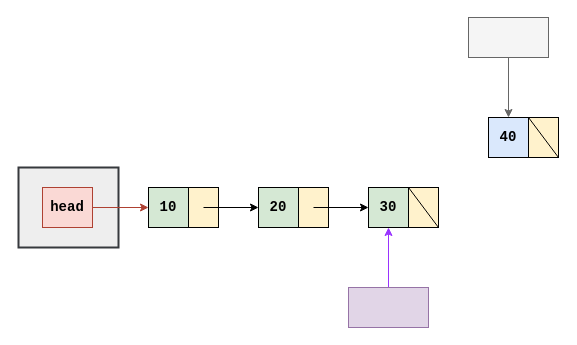
Some shapes in this 577 by 345 pixel diagram are drawn without their labels. The centre of each missing label's shape, as x and y in pixels:
current: point 388,307
newNode: point 508,37
